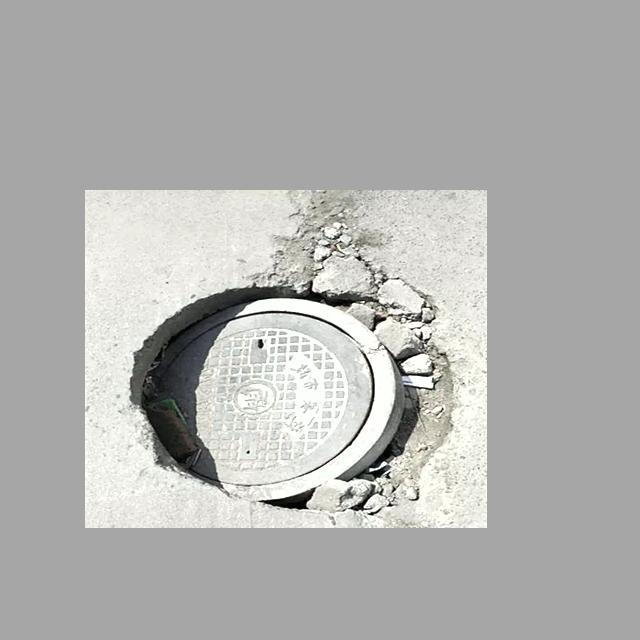circle: (131, 215, 448, 507)
